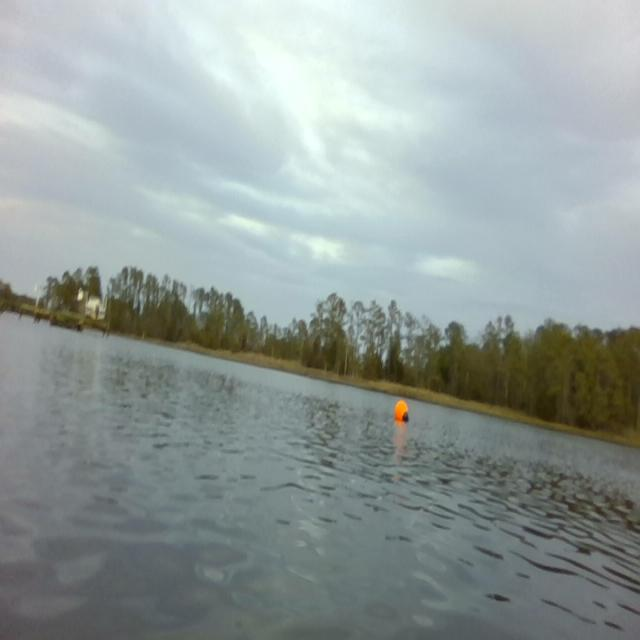Buoy: (392, 396, 410, 425)
